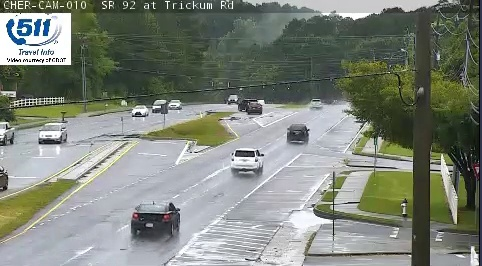car: (131, 202, 180, 232), (231, 147, 262, 171), (286, 123, 308, 142)
